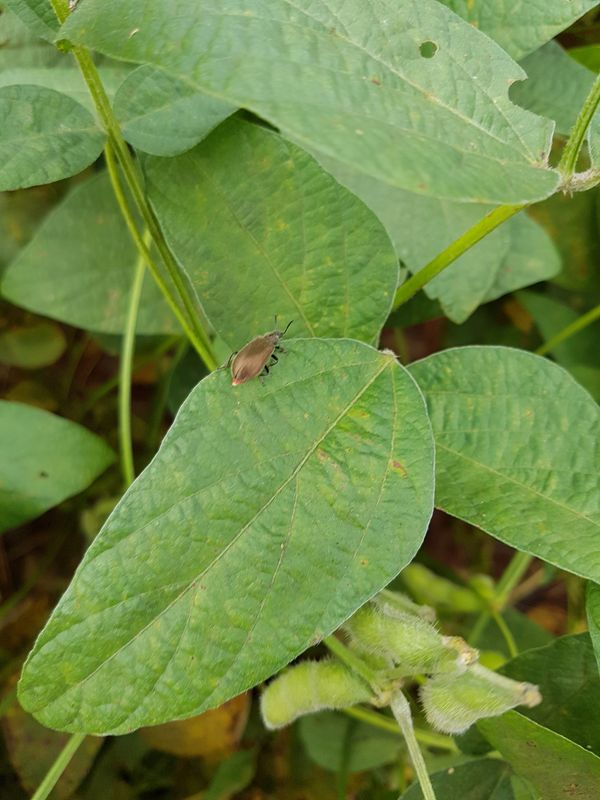Lagria_villosa: (209, 307, 301, 398)
